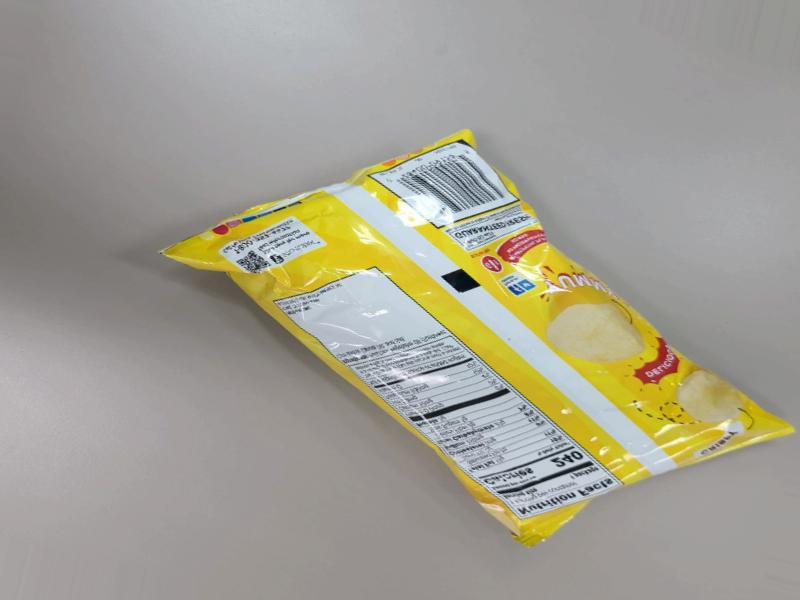lays: (356, 141, 800, 587)
